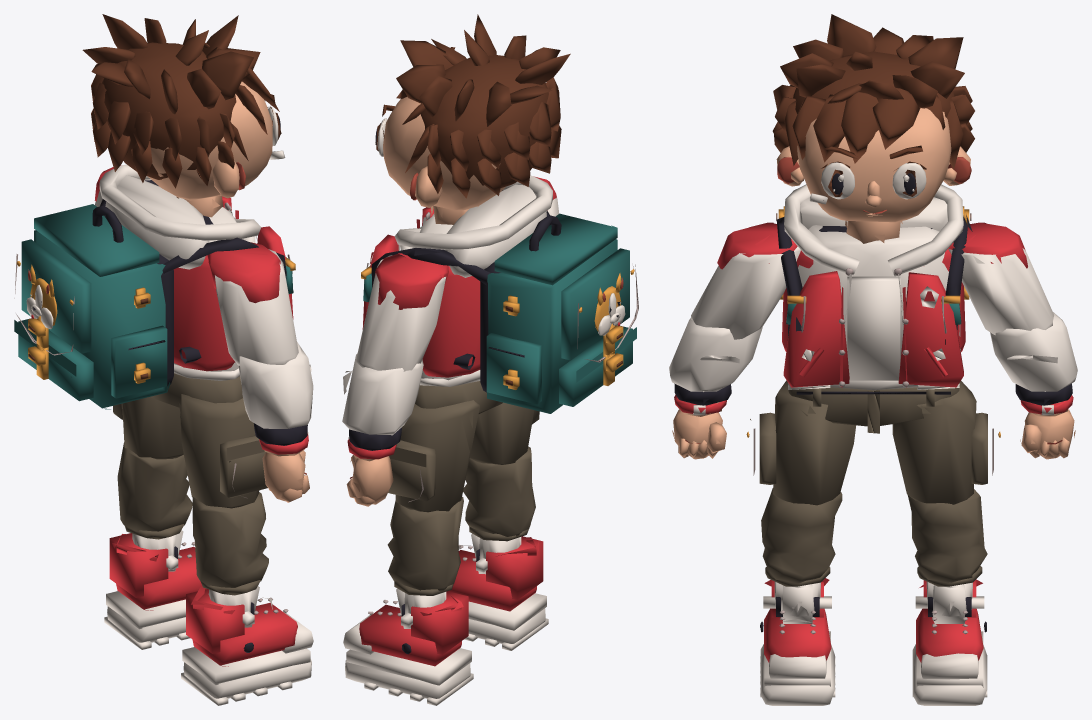
3 views of the same model, side by side, from view 1: azimuth 30°, elevation 25°; view 2: azimuth 150°, elevation 25°; view 3: azimuth 270°, elevation 25° (orthographic).
Parts seen in each view (by area): view 1: head, backpackSocket, torso, footR, footL, armR, legR, shinR, shinL, foreArmR, legL, handR (+1 smaller); view 2: head, backpackSocket, torso, footL, footR, armL, legL, shinL, shinR, foreArmL, legR, handL (+1 smaller); view 3: torso, head, legL, legR, footL, footR, armR, armL, shinR, shinL, foreArmL, foreArmR (+3 smaller).
Part boxes in pixels (x1=…): head: x1=82, y1=14, x2=285, y2=200; backpackSocket: x1=14, y1=204, x2=173, y2=409; torso: x1=99, y1=164, x2=295, y2=380; footR: x1=181, y1=585, x2=313, y2=705; footL: x1=104, y1=530, x2=206, y2=649; armR: x1=207, y1=242, x2=298, y2=365; legR: x1=178, y1=394, x2=267, y2=508; shinR: x1=192, y1=492, x2=268, y2=614; shinL: x1=117, y1=442, x2=192, y2=558; foreArmR: x1=238, y1=342, x2=313, y2=445; legL: x1=113, y1=396, x2=183, y2=459; handR: x1=259, y1=432, x2=309, y2=502; head: x1=375, y1=14, x2=570, y2=210; backpackSocket: x1=480, y1=213, x2=638, y2=413; torso: x1=361, y1=175, x2=552, y2=386; footL: x1=343, y1=588, x2=473, y2=705; footR: x1=448, y1=534, x2=548, y2=650; armL: x1=356, y1=253, x2=448, y2=371; legL: x1=388, y1=400, x2=479, y2=512; shinL: x1=387, y1=496, x2=463, y2=616; shinR: x1=463, y1=446, x2=535, y2=561; foreArmL: x1=342, y1=353, x2=423, y2=450; legR: x1=470, y1=402, x2=539, y2=464; handL: x1=346, y1=437, x2=396, y2=506; torso: x1=776, y1=184, x2=972, y2=390; head: x1=772, y1=14, x2=974, y2=222; legL: x1=892, y1=381, x2=1000, y2=504; legR: x1=746, y1=380, x2=856, y2=505; footL: x1=912, y1=579, x2=987, y2=705; footR: x1=760, y1=578, x2=835, y2=705; armR: x1=691, y1=222, x2=800, y2=339; armL: x1=948, y1=222, x2=1053, y2=335; shinR: x1=761, y1=488, x2=842, y2=616; shinL: x1=907, y1=489, x2=987, y2=616; foreArmL: x1=990, y1=312, x2=1077, y2=405; foreArmR: x1=669, y1=318, x2=762, y2=405.
Bounding box in the file's own units: 0.7007 × 1.8 × 1.06.
